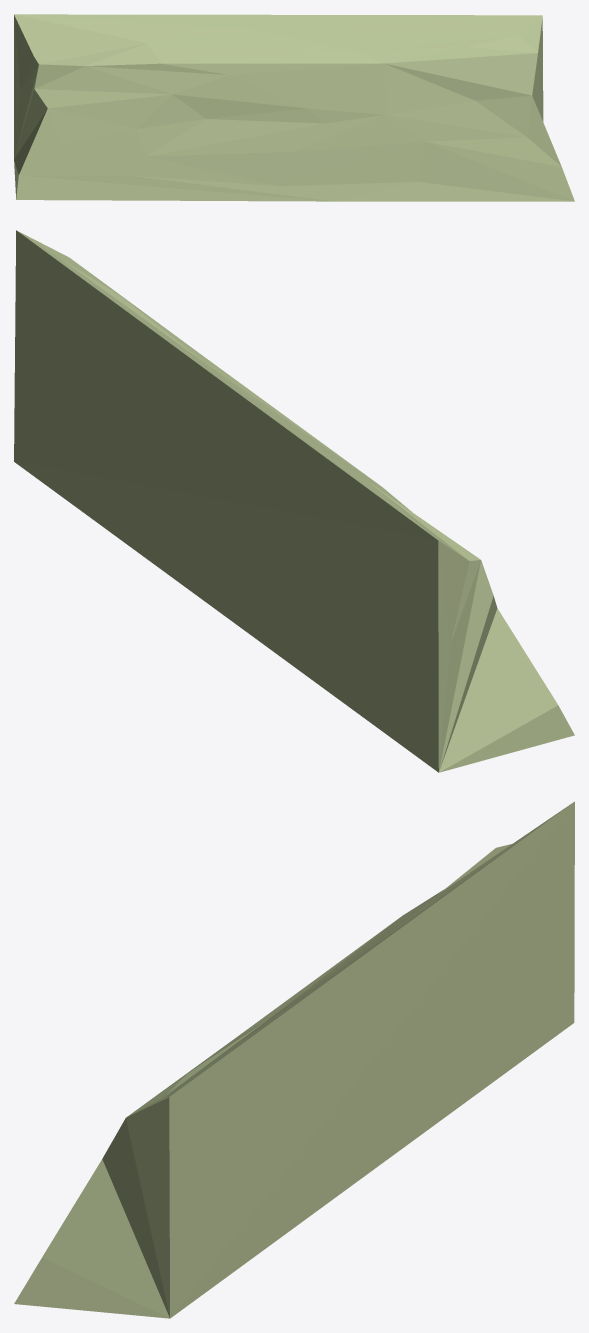
File: hill_16.gltf
3 views of the same model, one above another, from view 1: azimuth 30°, elevation 25°; view 2: azimuth 150°, elevation 25°; view 3: azimuth 270°, elevation 25° (orthographic). The views are drawn at different scales.
Parts seen in each view (by area): view 1: hill; view 2: hill; view 3: hill.
Boxes of the visible parts, x1,y1,x2,y2 form: hill: [14, 14, 574, 201]; hill: [14, 230, 574, 772]; hill: [14, 801, 574, 1318].
Size of the model in its own units: 5.1 by 1.61 by 3.7.
